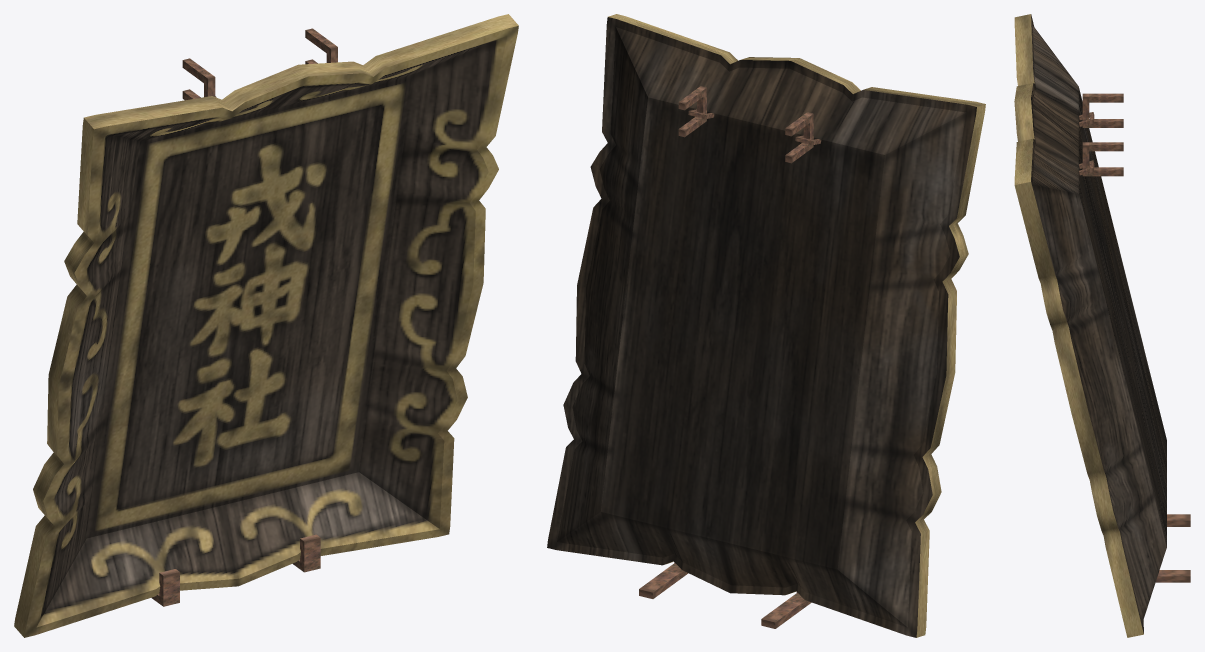
Rendered from Torii_Accessory_Sign04.fbx.
3 views of the same model, side by side, from view 1: azimuth 30°, elevation 25°; view 2: azimuth 150°, elevation 25°; view 3: azimuth 270°, elevation 25° (orthographic). The views are drawn at different scales.
Visible parts, largest first — view 1: Torii_access_sign04; view 2: Torii_access_sign04; view 3: Torii_access_sign04.
Boxes of the visible parts, left/top/right/bottom form: Torii_access_sign04: left=14, top=14, right=518, bottom=637; Torii_access_sign04: left=547, top=14, right=985, bottom=637; Torii_access_sign04: left=1014, top=14, right=1190, bottom=637.
Bounding box in the file's own units: 0.6719 × 0.8541 × 0.2981.
